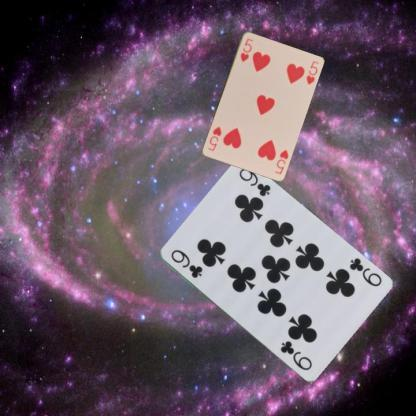5h: (272, 146, 290, 176), (238, 36, 254, 63)
9c: (168, 246, 204, 280), (346, 255, 383, 288)
